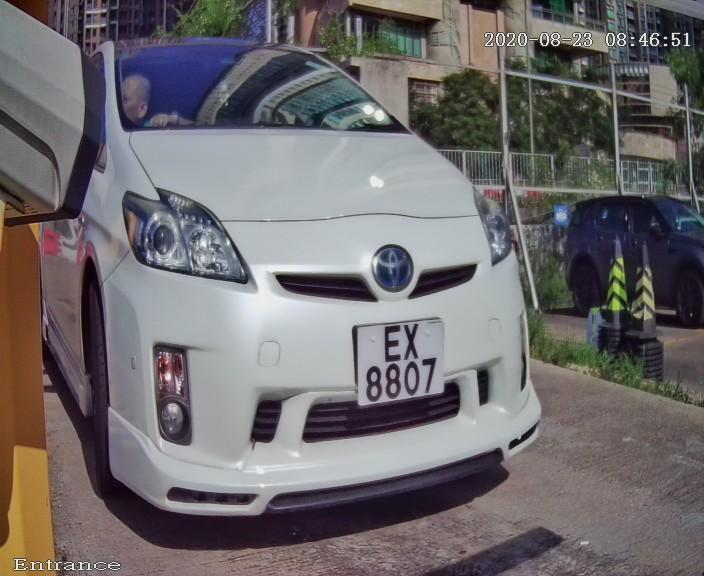Car: (29, 3, 588, 571)
License Plate: (337, 301, 453, 422)
